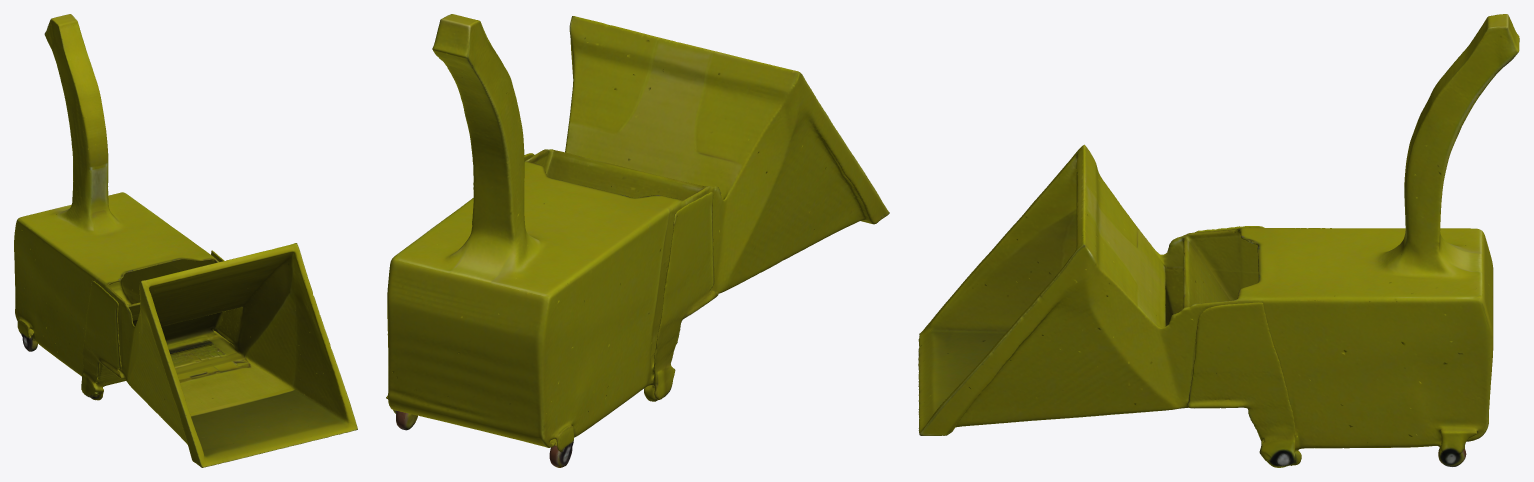
Rendered from Meshy_AI_Green_Slope_Roller_0202113904_texture.fbx.
3 renders of one model, left to right at view 1: azimuth 30°, elevation 25°; view 2: azimuth 150°, elevation 25°; view 3: azimuth 270°, elevation 25°, orthographic. The views are drawn at different scales.
Parts seen in each view (by area): view 1: Mesh_0; view 2: Mesh_0; view 3: Mesh_0.
Boxes of the visible parts, bbox=[...] form: Mesh_0: bbox=[14, 14, 357, 467]; Mesh_0: bbox=[386, 14, 889, 467]; Mesh_0: bbox=[918, 14, 1519, 467].
Bounding box in the file's own units: 80.56 × 152 × 200.
Materials: 1 (1 with a texture image).
